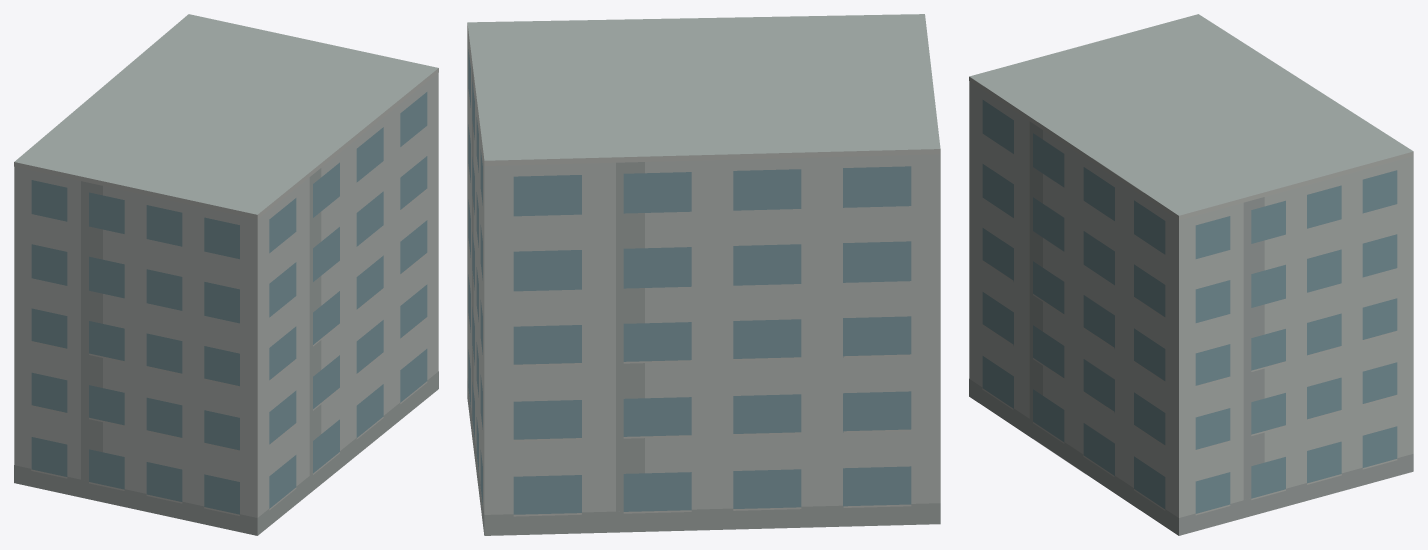
The model's file is survey-upis-32694703.glb.
3 renders of one model, left to right at view 1: azimuth 30°, elevation 25°; view 2: azimuth 150°, elevation 25°; view 3: azimuth 270°, elevation 25°, orthographic. The views are drawn at different scales.
Visible parts, largest first — view 1: survey-upis-32694703.tmp; view 2: survey-upis-32694703.tmp; view 3: survey-upis-32694703.tmp.
Boxes of the visible parts, x1,y1,x2,y2 form: survey-upis-32694703.tmp: (14,14,438,535); survey-upis-32694703.tmp: (467,14,940,535); survey-upis-32694703.tmp: (969,14,1413,535).
Size of the model in its own units: 23.02 by 17.02 by 21.43.
